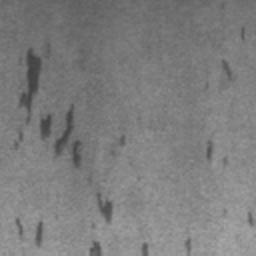Red iron sheet: (13, 47, 82, 166), (90, 192, 191, 256), (223, 26, 246, 79), (15, 218, 44, 246), (206, 141, 212, 160), (248, 211, 253, 225), (119, 137, 125, 146)
